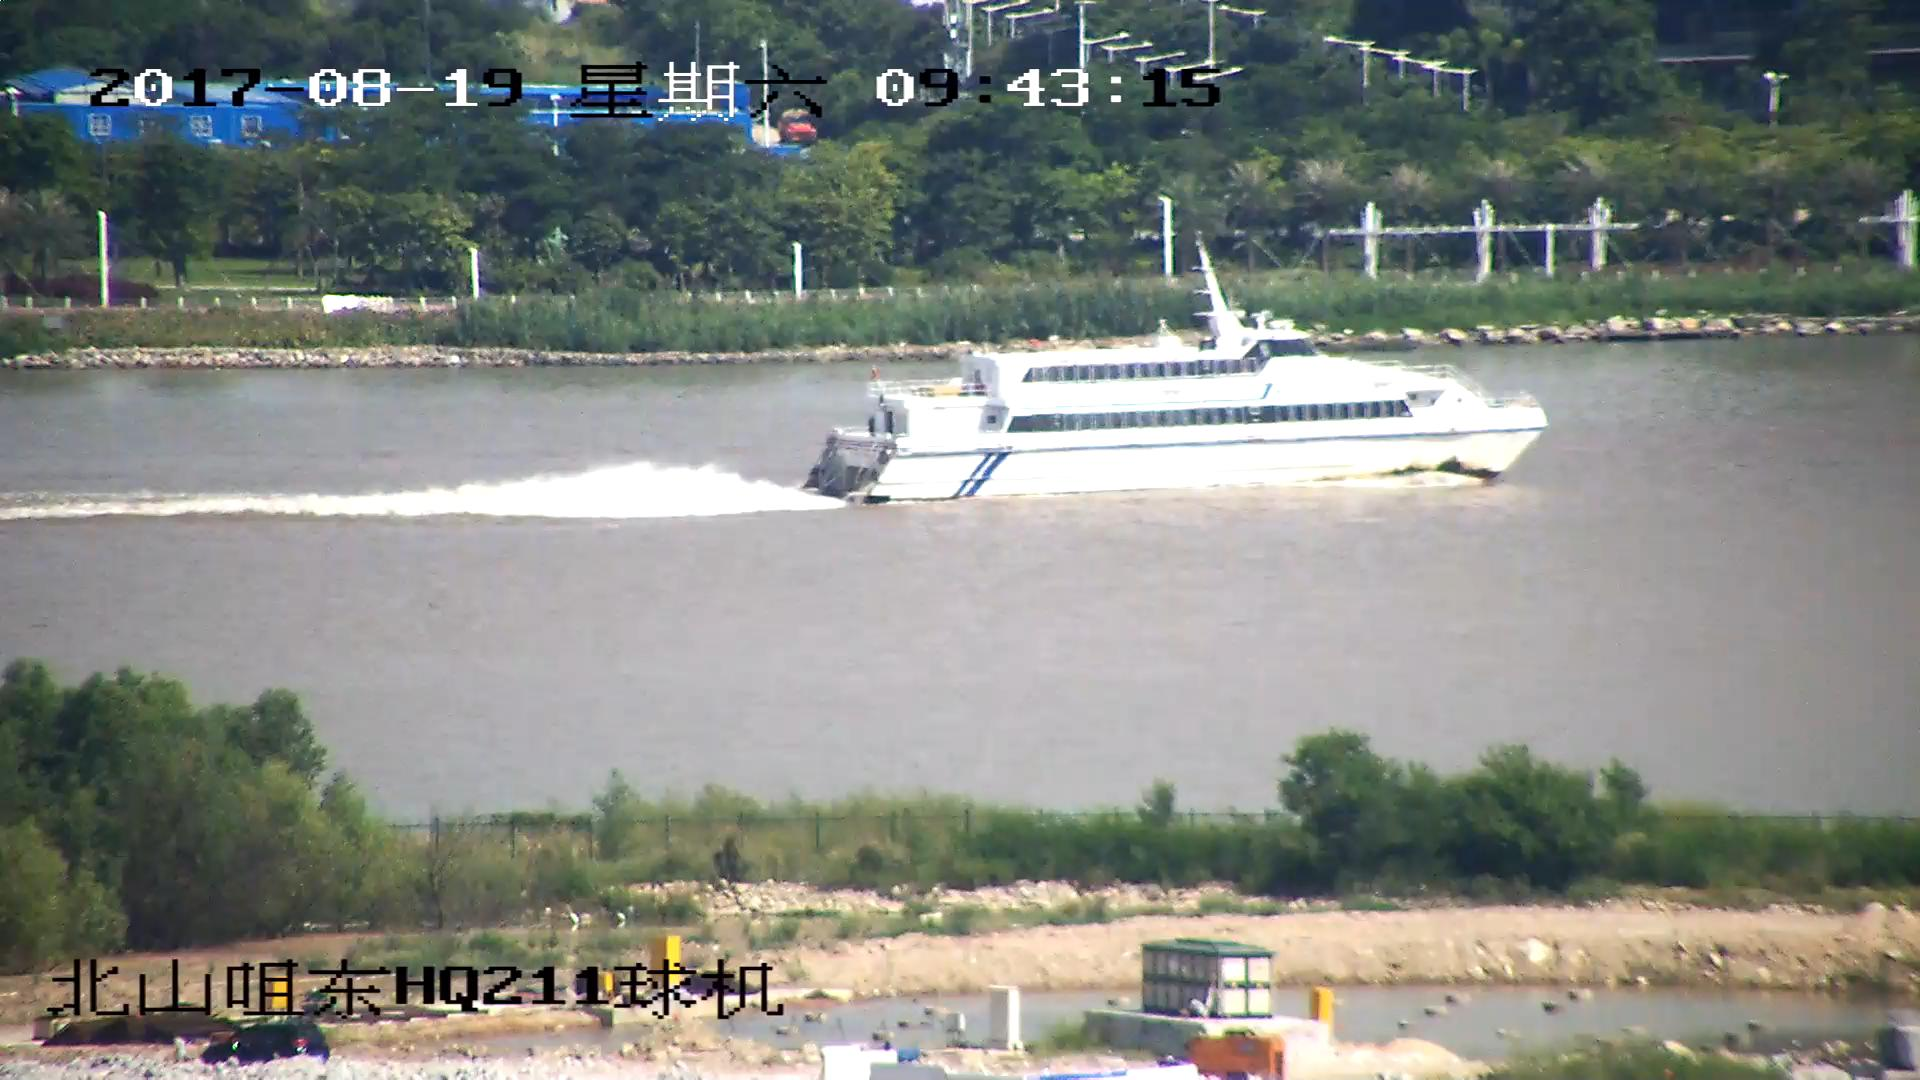passenger ship: (808, 243, 1547, 499)
